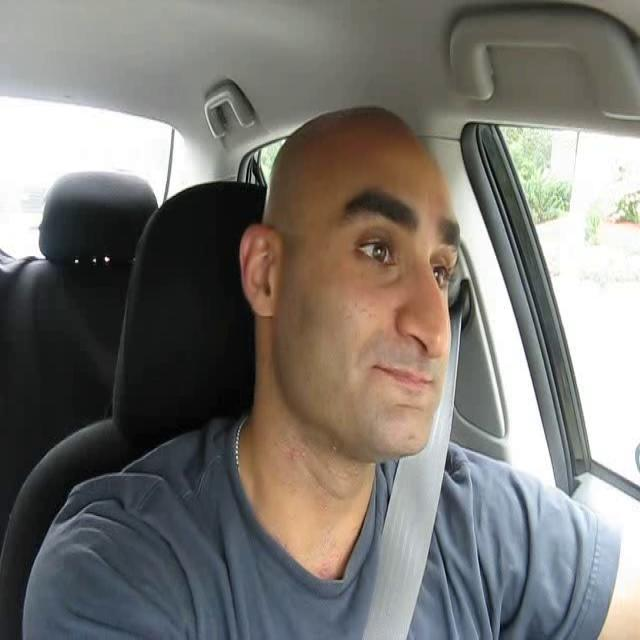close: (362, 360, 444, 400)
